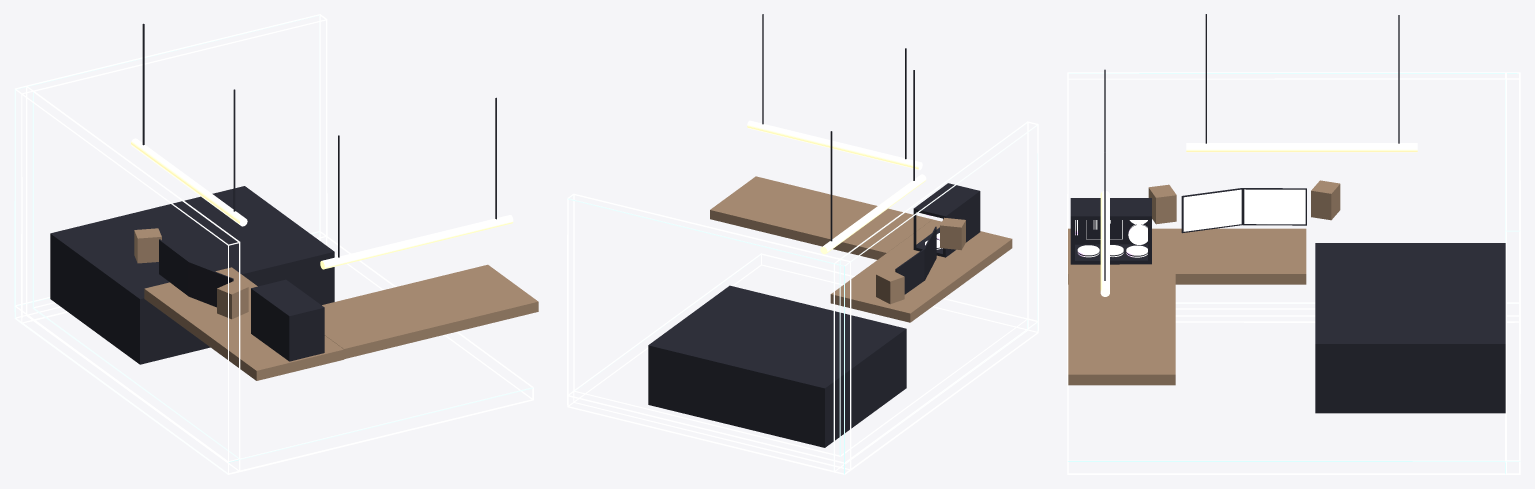
File: myroom.glb
The picture shows the model from 3 angles, left to right: view 1: azimuth 30°, elevation 25°; view 2: azimuth 150°, elevation 25°; view 3: azimuth 270°, elevation 25°; orthographic projection. The views are drawn at different scales.
Parts seen in each view (by area): view 1: Plane.001, Plane.002, Room, Plane, Cube, Cylinder, Cylinder.001, Plane.004, Plane.003, Plane.006, Plane.005; view 2: Plane.001, Room, Plane.002, Plane, Cube, Cylinder, Cylinder.001, Plane.005, Plane.006, Plane.003; view 3: Plane.001, Plane.002, Plane, Room, Cube, Plane.003, Plane.004, Cylinder.001, Plane.005, Cylinder, Plane.006, Cube.001.
Part boxes in pixels (box(x1,y1,x2,y2)): Plane.001: box(50, 186, 334, 364); Plane.002: box(322, 264, 538, 358); Room: box(14, 14, 533, 474); Plane: box(144, 267, 344, 380); Cube: box(251, 279, 324, 361); Cylinder: box(320, 215, 513, 269); Cylinder.001: box(131, 138, 247, 226); Plane.004: box(188, 261, 233, 307); Plane.003: box(159, 239, 189, 295); Plane.006: box(217, 281, 248, 319); Plane.005: box(134, 228, 161, 263); Plane.001: box(648, 285, 906, 447); Room: box(567, 121, 1038, 474); Plane.002: box(710, 176, 932, 259); Plane: box(830, 219, 1012, 322); Cube: box(913, 183, 980, 257); Cylinder: box(747, 120, 922, 170); Cylinder.001: box(820, 174, 926, 254); Plane.005: box(876, 269, 904, 304); Plane.006: box(940, 217, 965, 250); Plane.003: box(895, 249, 924, 294); Plane.001: box(1315, 243, 1505, 413); Plane.002: box(1068, 273, 1175, 385); Plane: box(1068, 228, 1306, 284); Room: box(1067, 72, 1520, 474); Cube: box(1070, 198, 1151, 264); Plane.003: box(1243, 188, 1306, 225); Plane.004: box(1181, 188, 1242, 233); Cylinder.001: box(1186, 143, 1417, 152); Plane.005: box(1311, 180, 1340, 220); Cylinder: box(1100, 191, 1109, 296); Plane.006: box(1148, 184, 1176, 224); Cube.001: box(1086, 220, 1122, 238).
Bounding box in the file's own units: 15.19 × 14.92 × 18.07.
